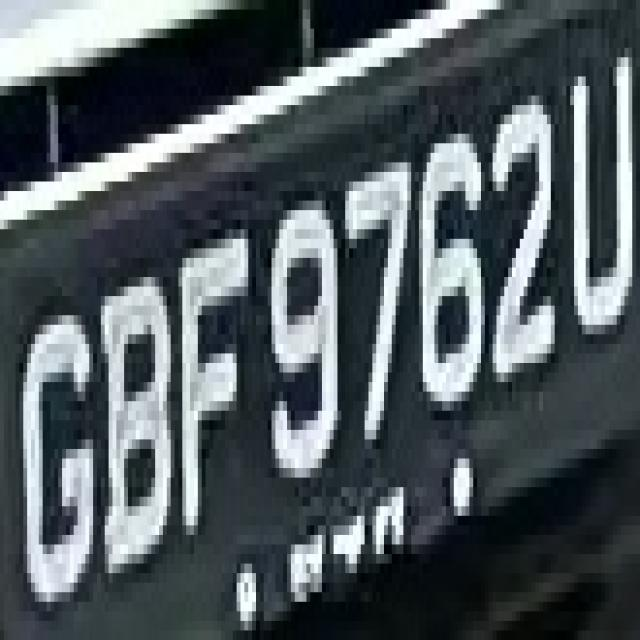2: (477, 76, 563, 411)
6: (415, 96, 493, 410)
7: (334, 162, 415, 458)
9: (264, 162, 345, 516)
B: (101, 248, 174, 612)
F: (175, 210, 256, 554)
G: (15, 286, 104, 612)
U: (570, 48, 640, 363)
